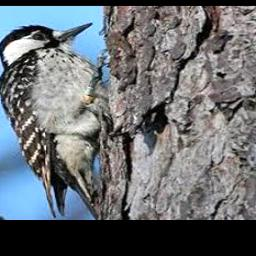Woodpecker: (0, 23, 138, 219)
